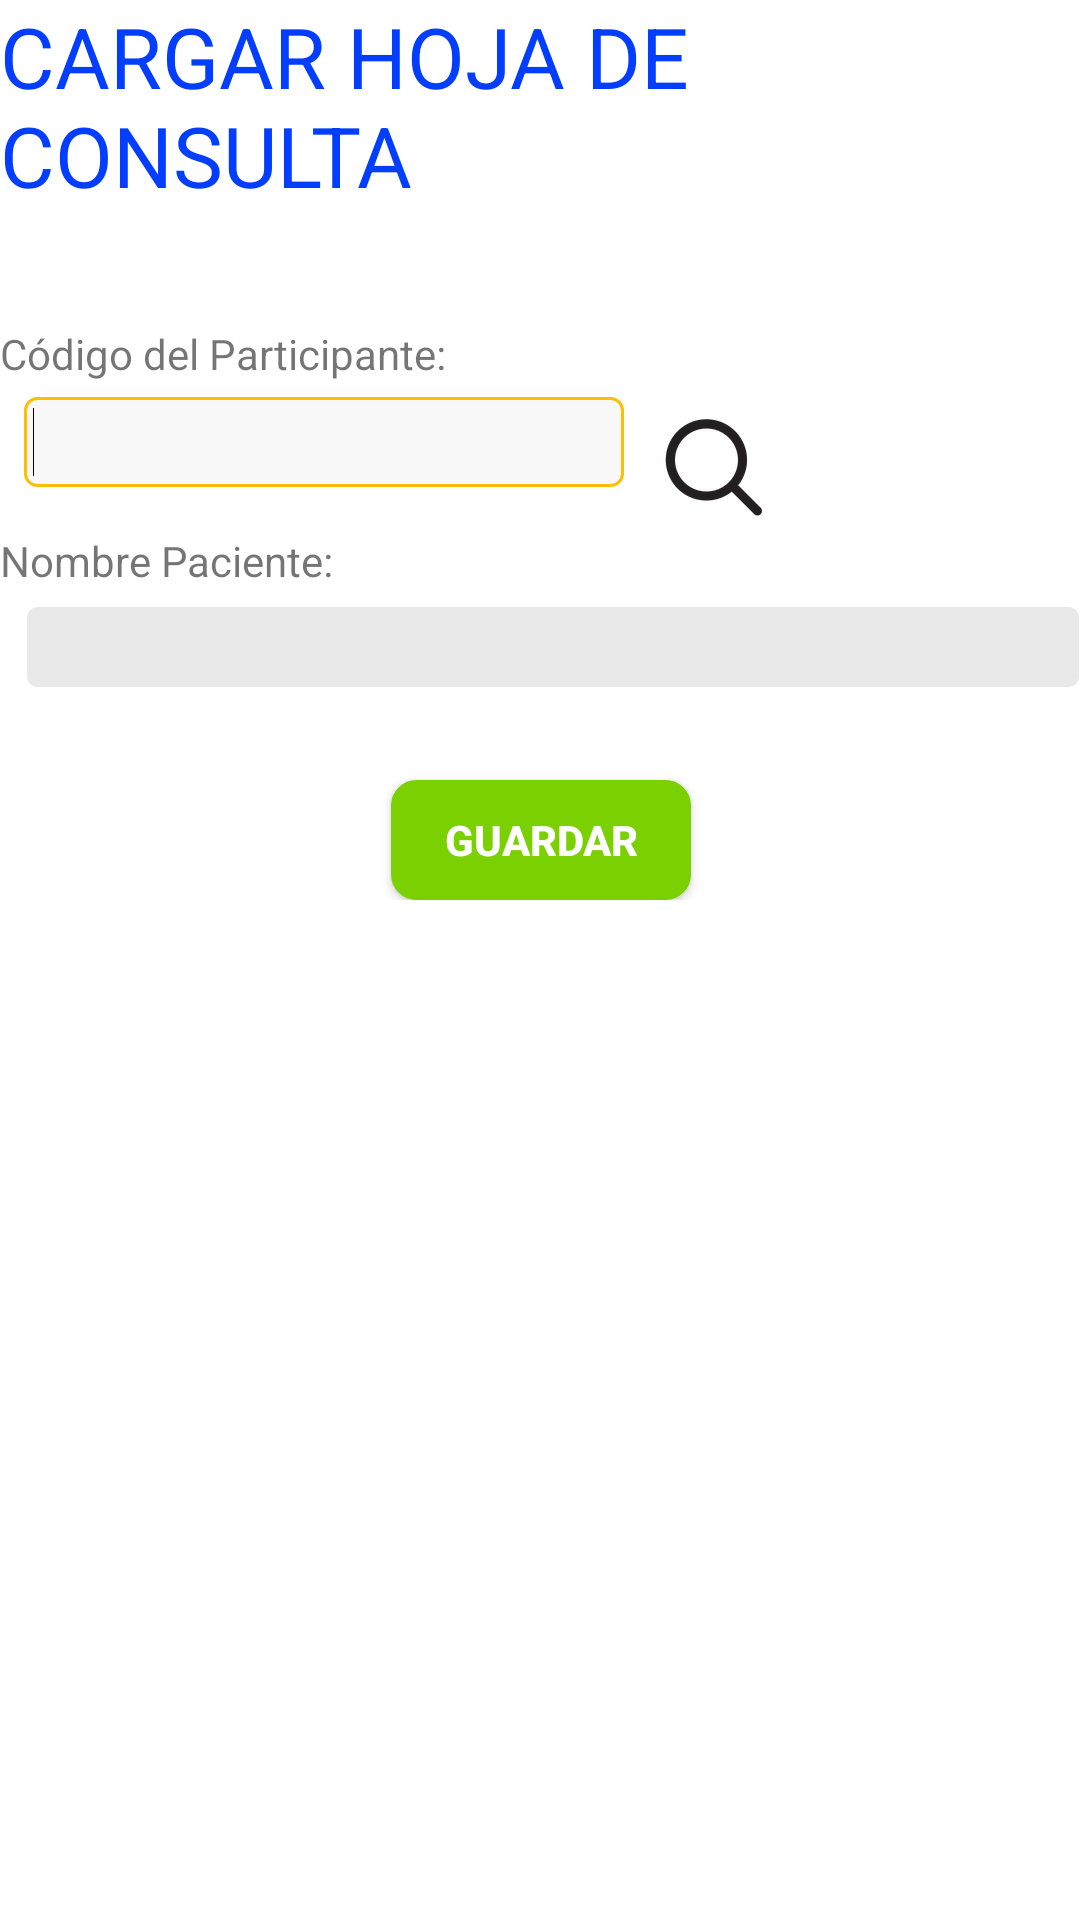

Locate icon controls on the screen. Image size 1080×1920, boxes as [left=x1, top=y1, right=x2, bottom=y2].
search: [left=665, top=419, right=762, bottom=516]
